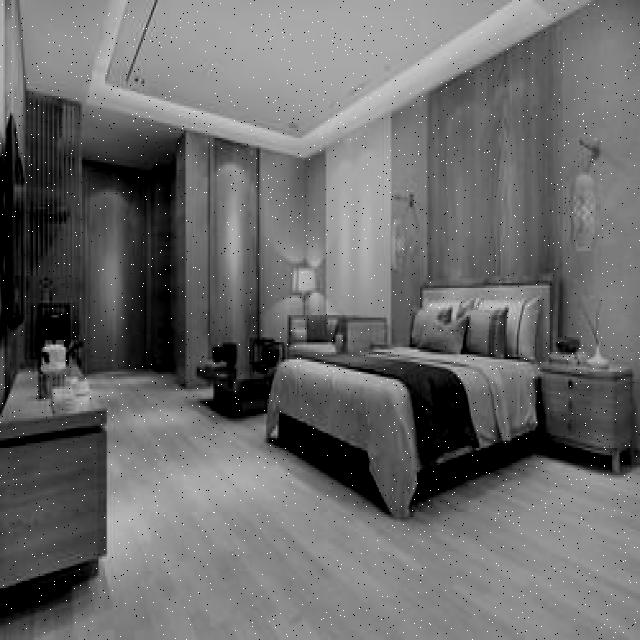bed: (264, 289, 550, 501)
